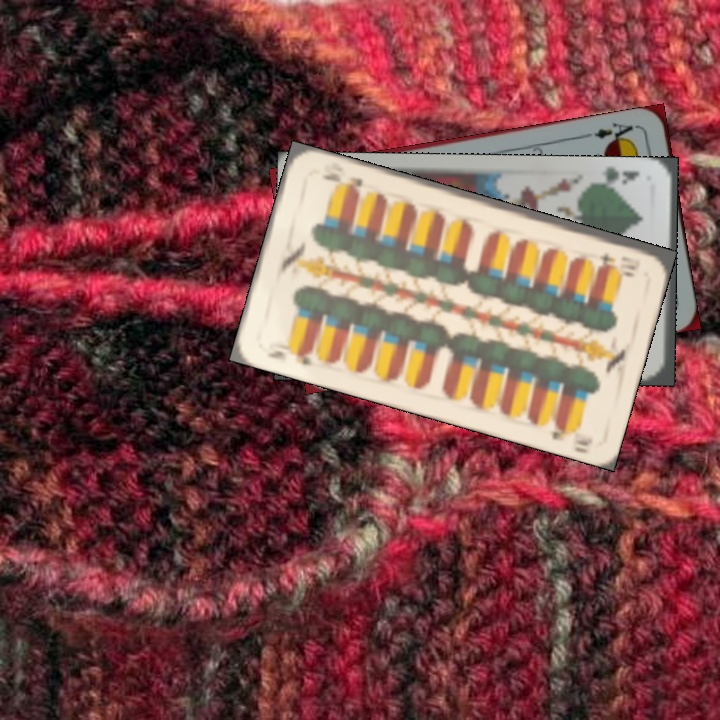E10: (263, 341, 315, 368), (594, 248, 643, 273)
EA: (582, 118, 641, 147)
GK: (598, 163, 642, 190)
